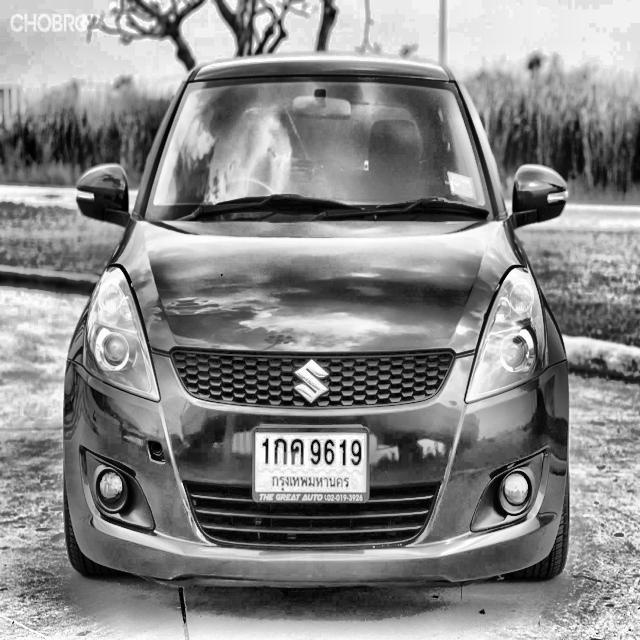license-plate: (253, 424, 369, 504)
